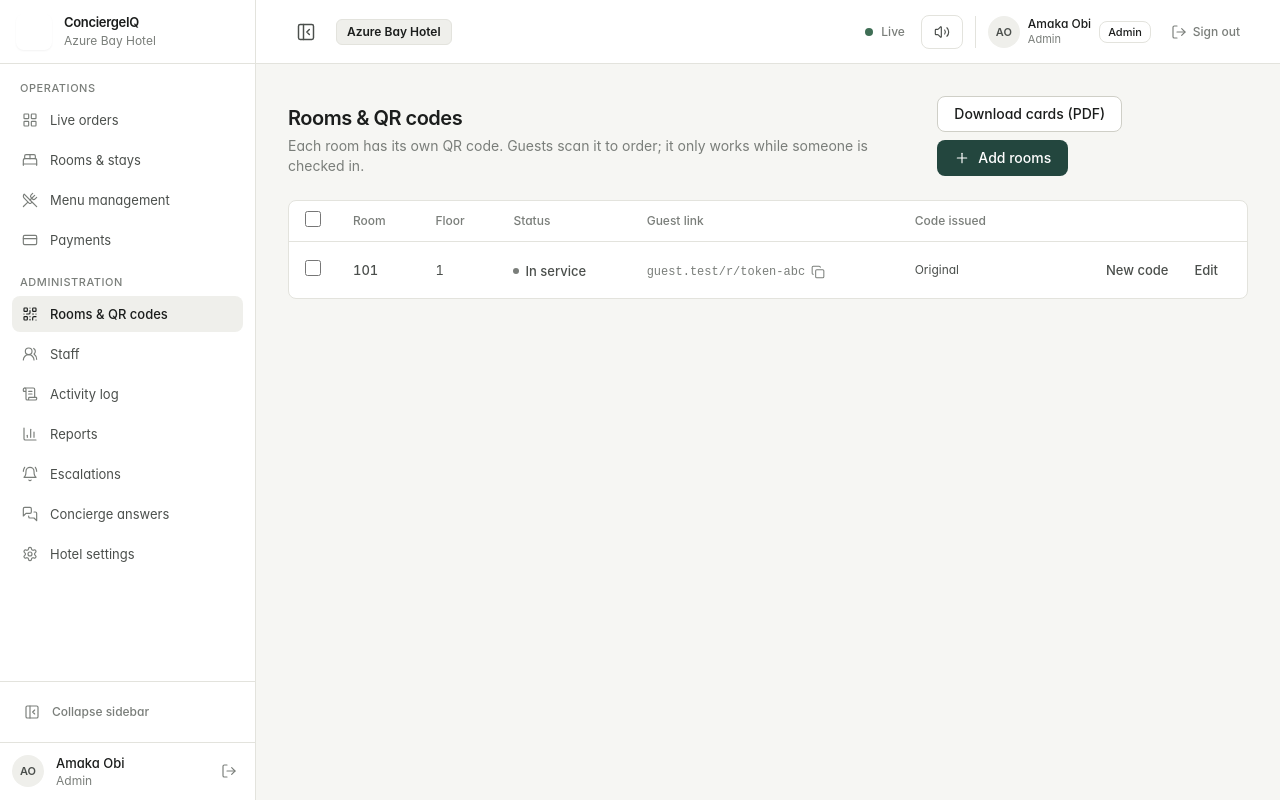
Scenario: QrPdfModal on the QR Codes page › opens the QR PDF modal when the download button is clicked
Click the button "Download cards (PDF)": (1030,114) [937,96,1122,132]
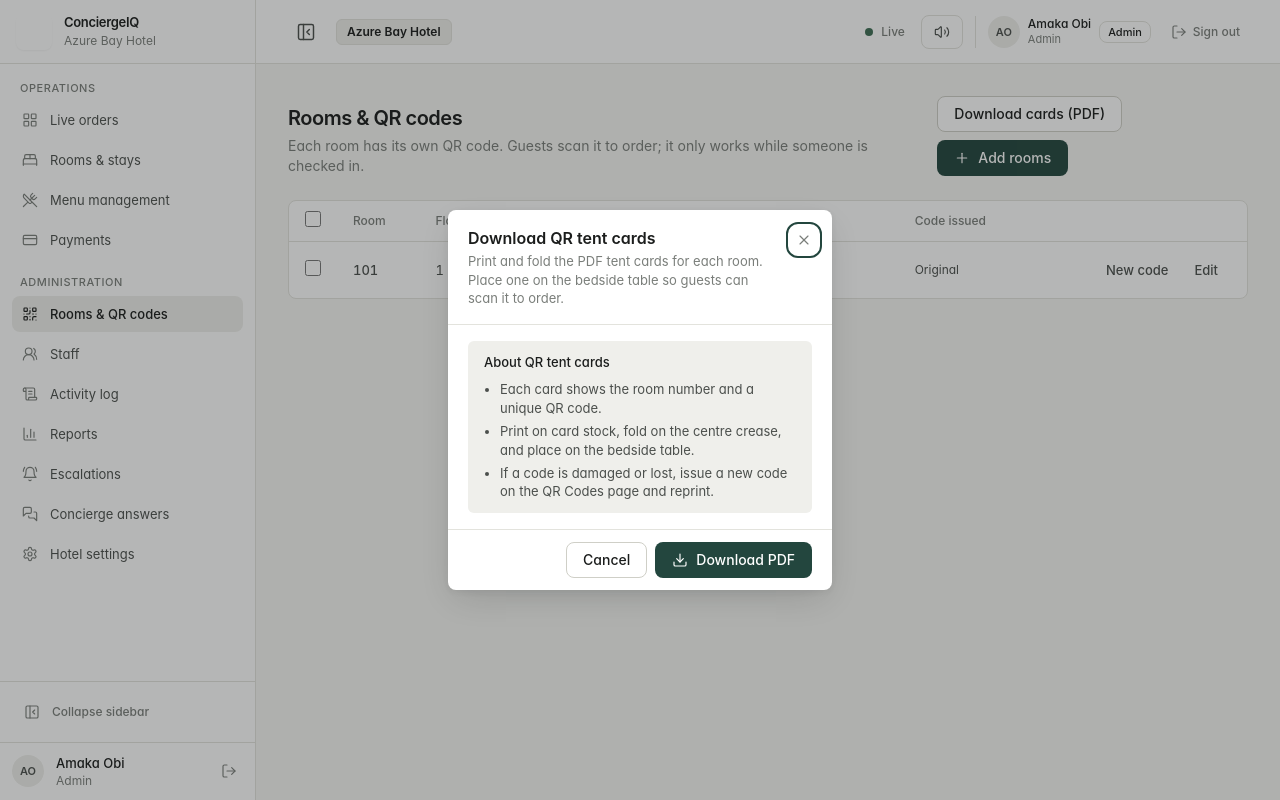
Expected: the dialog "Download QR tent cards" is shown, [448,210,832,590]
Expected: the button "Download PDF" is shown, [655,542,812,578]
